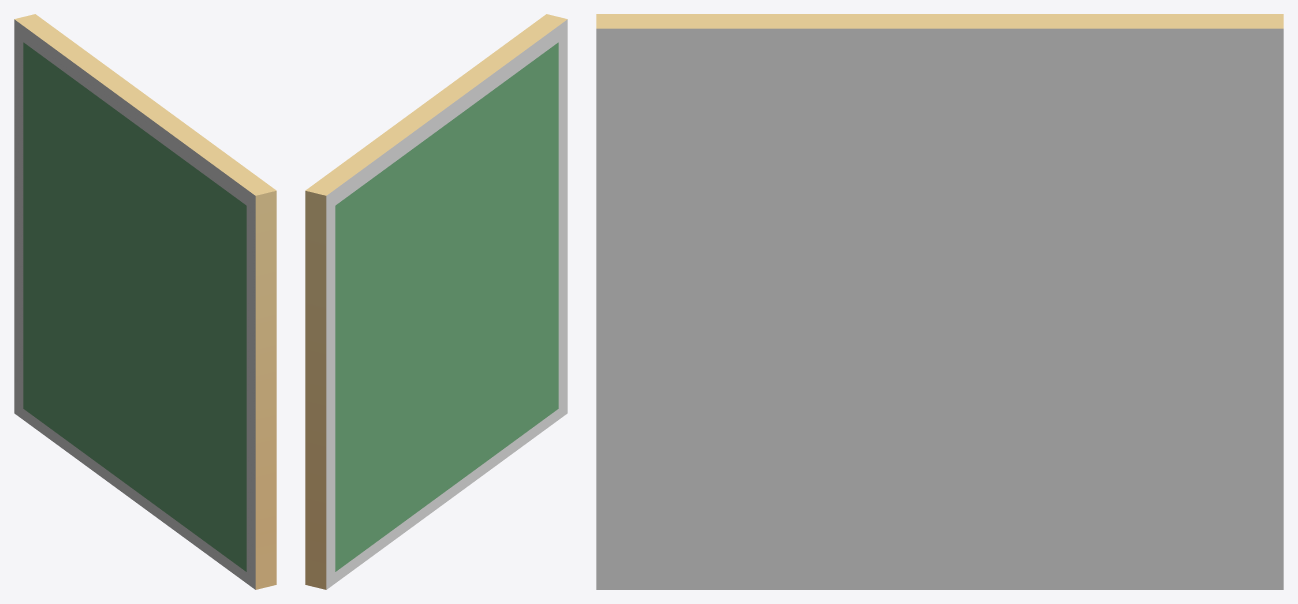
Rendered from Wall-Top-A.fbx.
3 views of the same model, side by side, from view 1: azimuth 30°, elevation 25°; view 2: azimuth 150°, elevation 25°; view 3: azimuth 270°, elevation 25° (orthographic). The views are drawn at different scales.
Visible parts, largest first — view 1: Wall-Top A; view 2: Wall-Top A; view 3: Wall-Top A.
Part boxes in pixels (left/top/right/bottom): Wall-Top A: left=14, top=14, right=276, bottom=589; Wall-Top A: left=305, top=14, right=567, bottom=589; Wall-Top A: left=596, top=14, right=1283, bottom=589.
Bounding box in the file's own units: 40.62 × 721 × 800.
